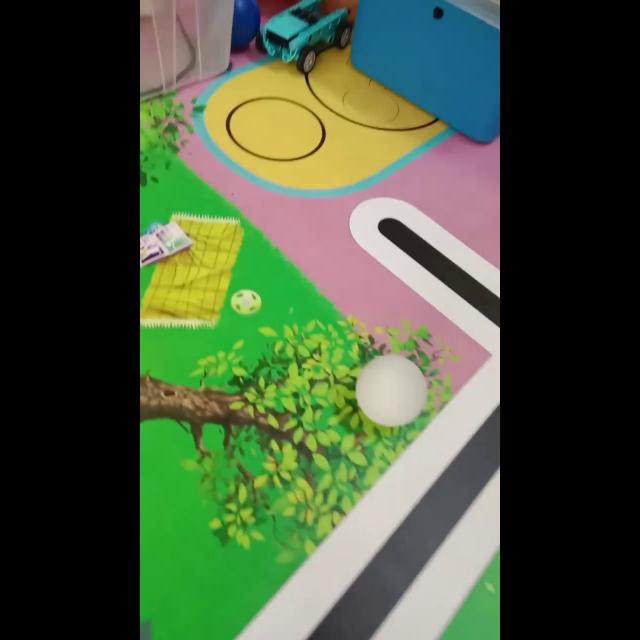white ball: (354, 353, 428, 427)
